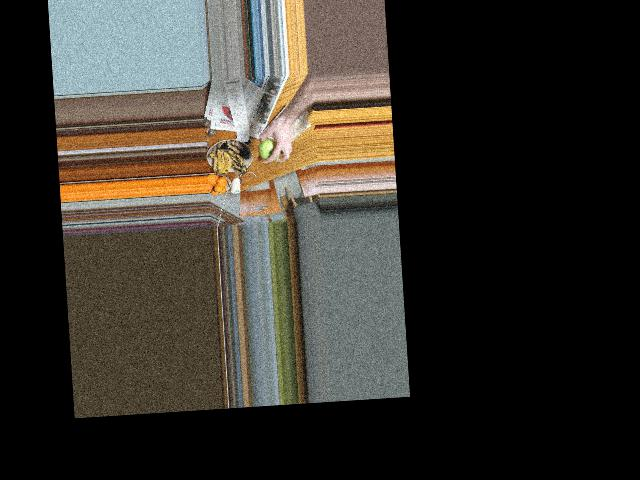apple: (259, 137, 278, 159)
